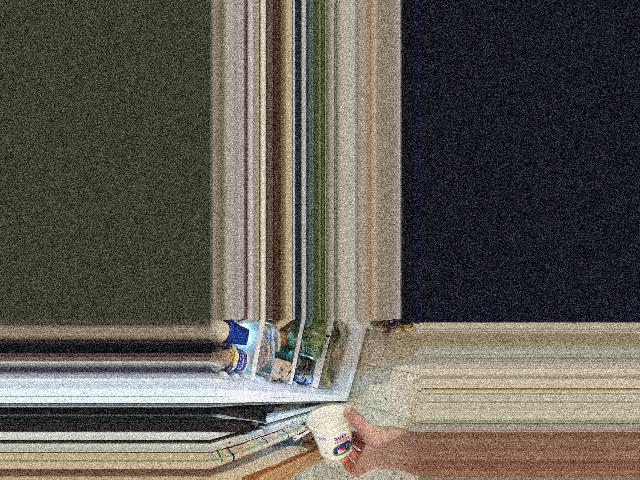cotage: (305, 416, 357, 459)
